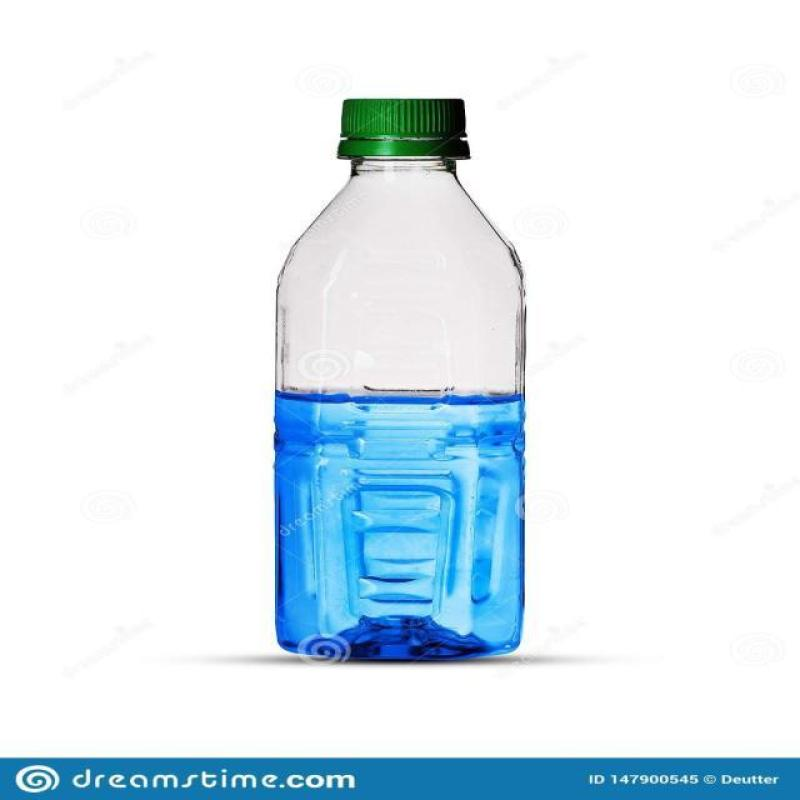botella: (278, 93, 524, 659)
